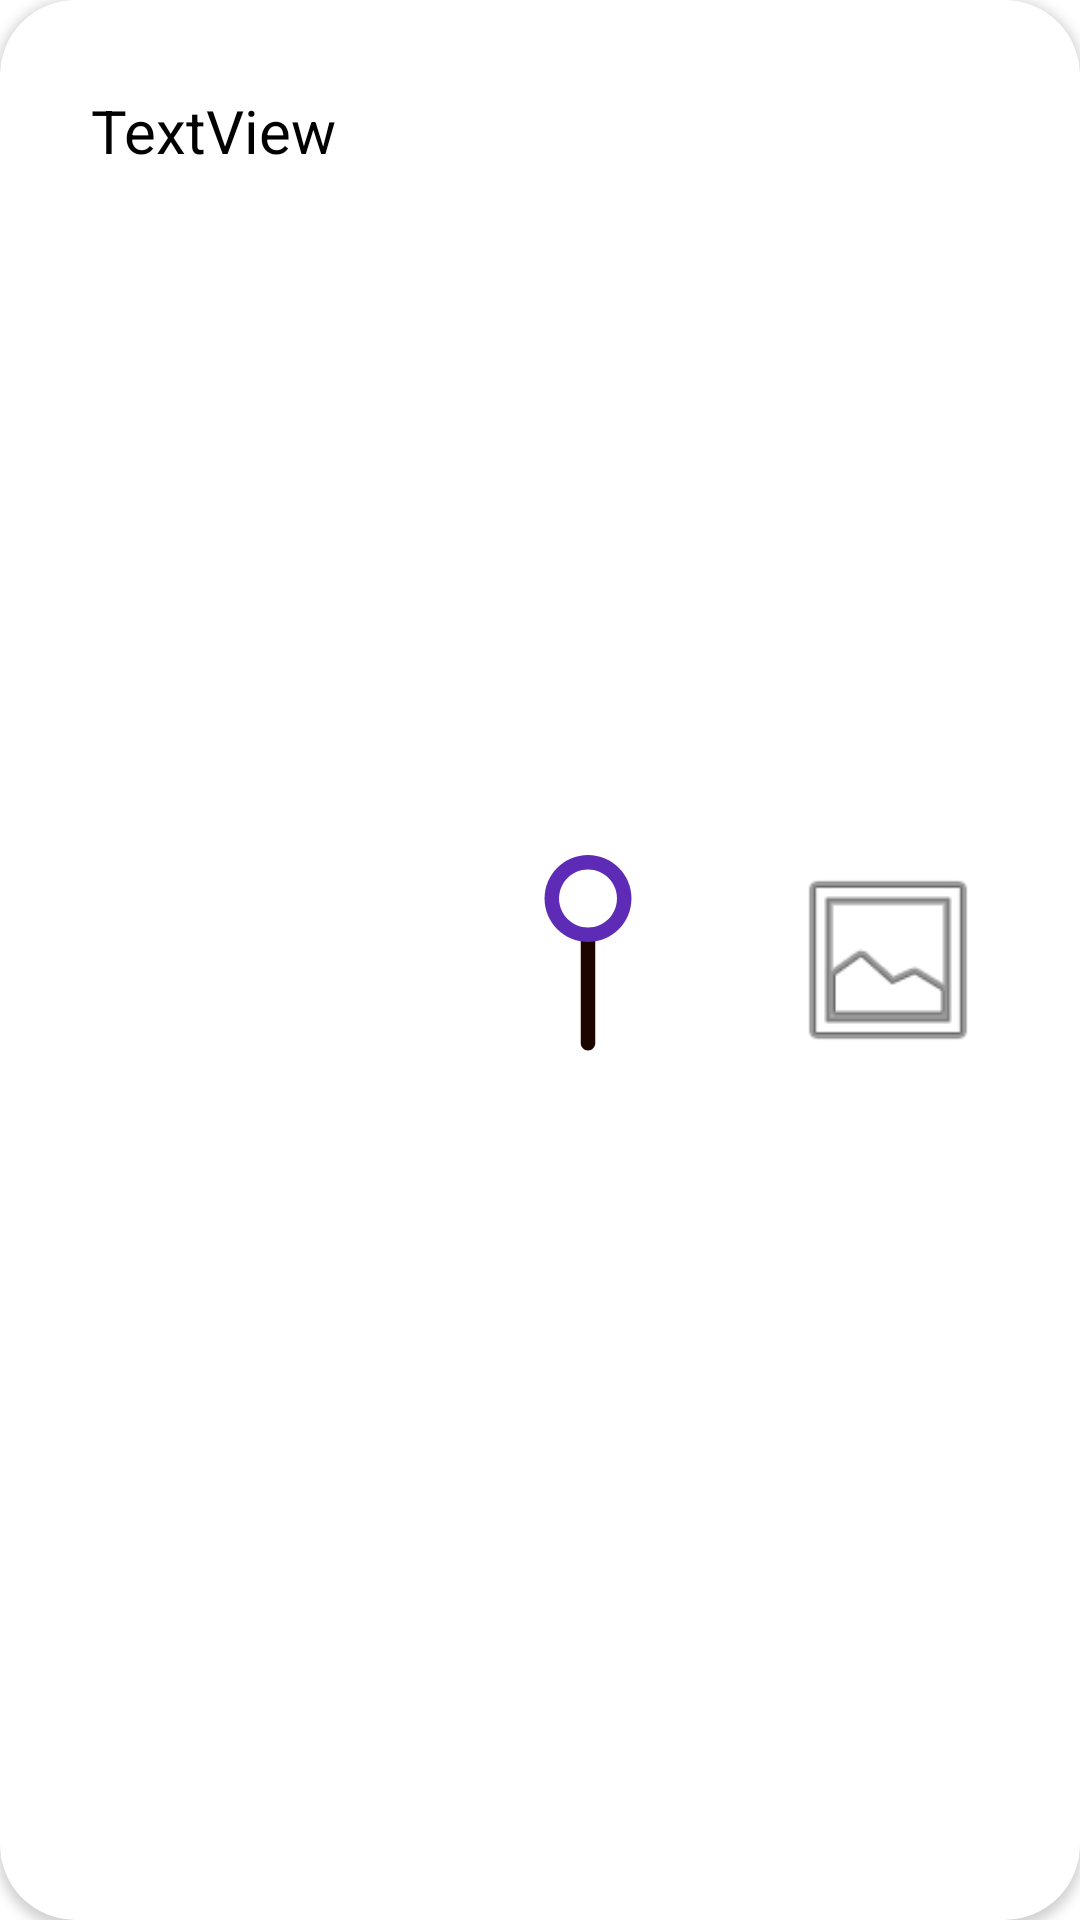

Screen size 1080x1920. Icon name, then its box in pixels as (x1, y1, x2, y2):
gallery: (809, 881, 967, 1039)
marker: (544, 855, 632, 1051)
